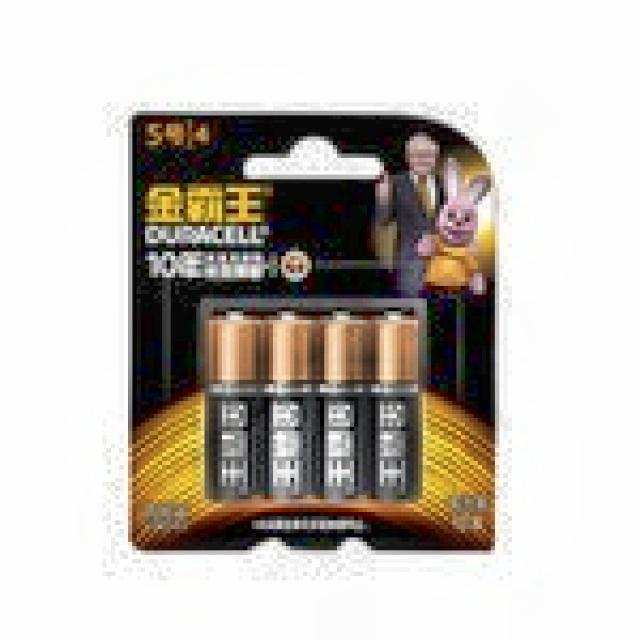Non-Valuable Waste - Batteries: (205, 310, 421, 498)
